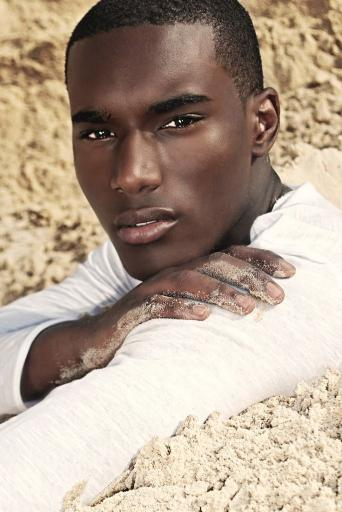left_eye: (158, 111, 212, 135)
left_lip_corner: (171, 213, 184, 228)
right_eye: (77, 128, 121, 146)
right_lip_corner: (114, 221, 124, 232)
